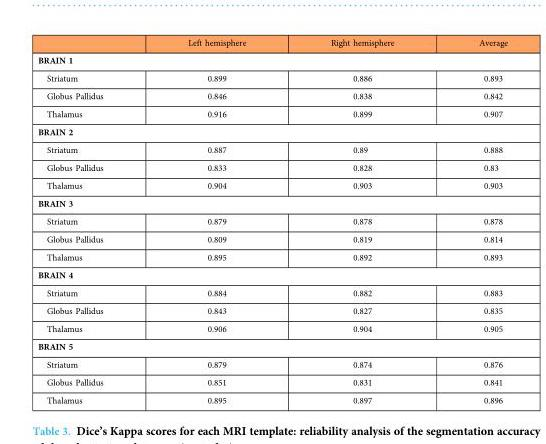table: (37, 37, 506, 404)
table column: (287, 37, 435, 404), (144, 37, 287, 404), (37, 37, 144, 404), (435, 37, 506, 404)
table column header: (37, 37, 506, 50)
table projected row header: (37, 50, 506, 68), (37, 122, 506, 140), (37, 265, 506, 283), (37, 337, 506, 355), (37, 194, 506, 211)
table row: (37, 50, 506, 68), (37, 68, 506, 86), (37, 86, 506, 104), (37, 104, 506, 122), (37, 122, 506, 140), (37, 140, 506, 158), (37, 158, 506, 176), (37, 176, 506, 194), (37, 211, 506, 229), (37, 229, 506, 247), (37, 247, 506, 265), (37, 265, 506, 283), (37, 283, 506, 301), (37, 301, 506, 319), (37, 319, 506, 337), (37, 337, 506, 355), (37, 372, 506, 390), (37, 194, 506, 211), (37, 355, 506, 372), (37, 390, 506, 404), (37, 37, 506, 50)
